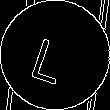L_N: (32, 26, 78, 84)
